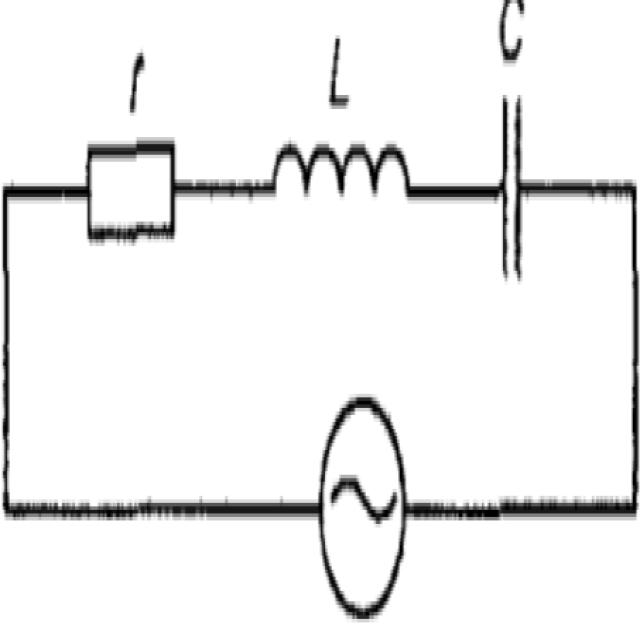cap: (495, 89, 531, 289)
ind: (271, 138, 414, 207)
net: (1, 486, 326, 528), (400, 495, 640, 527), (515, 166, 640, 209), (625, 170, 640, 519), (0, 180, 14, 525), (168, 169, 276, 213), (404, 168, 507, 212), (1, 173, 91, 211)
res: (85, 136, 178, 247)
source: (314, 386, 410, 626)
